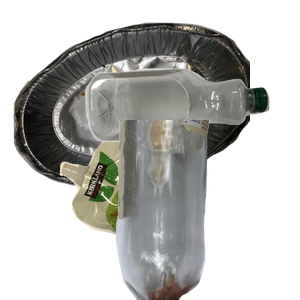glass: (113, 120, 300, 300)
metal: (11, 20, 251, 200)
plastic: (83, 66, 300, 201)
trash: (57, 137, 257, 300)
